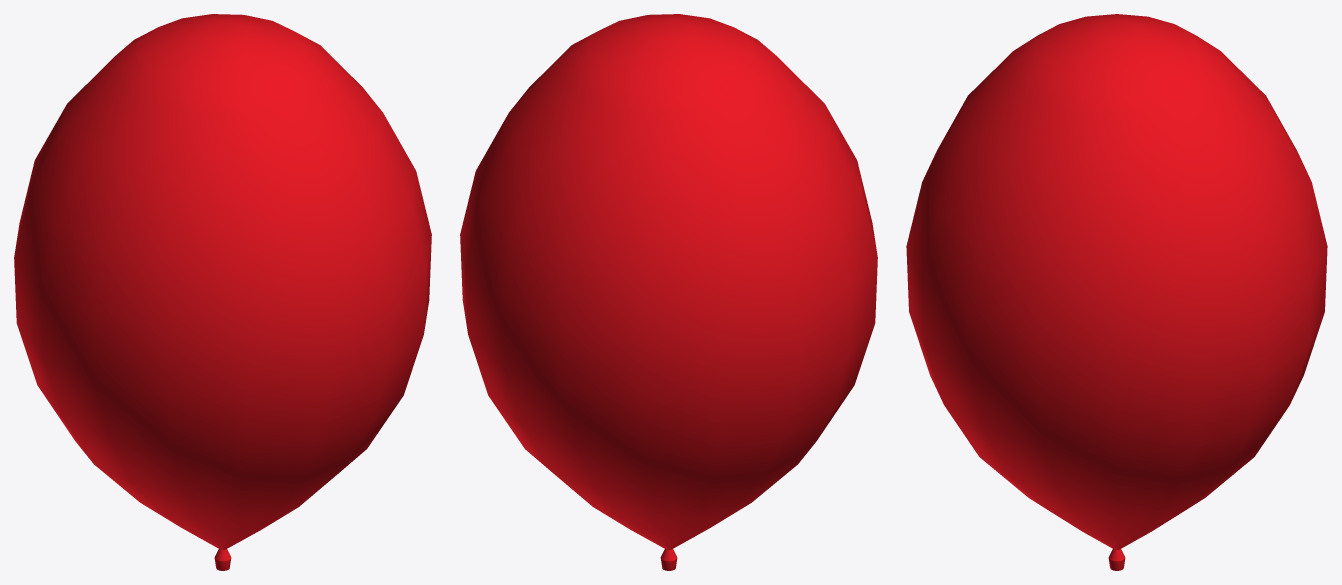
The model's file is Balloon.fbx.
3 renders of one model, left to right at view 1: azimuth 30°, elevation 25°; view 2: azimuth 150°, elevation 25°; view 3: azimuth 270°, elevation 25°, orthographic.
Visible parts, largest first — view 1: Balloon; view 2: Balloon; view 3: Balloon.
Part boxes in pixels (x1,y1,x2,y2): Balloon: (14, 14, 431, 570); Balloon: (460, 14, 877, 570); Balloon: (906, 14, 1327, 570).
Size of the model in its own units: 17.55 by 24.68 by 17.55.
